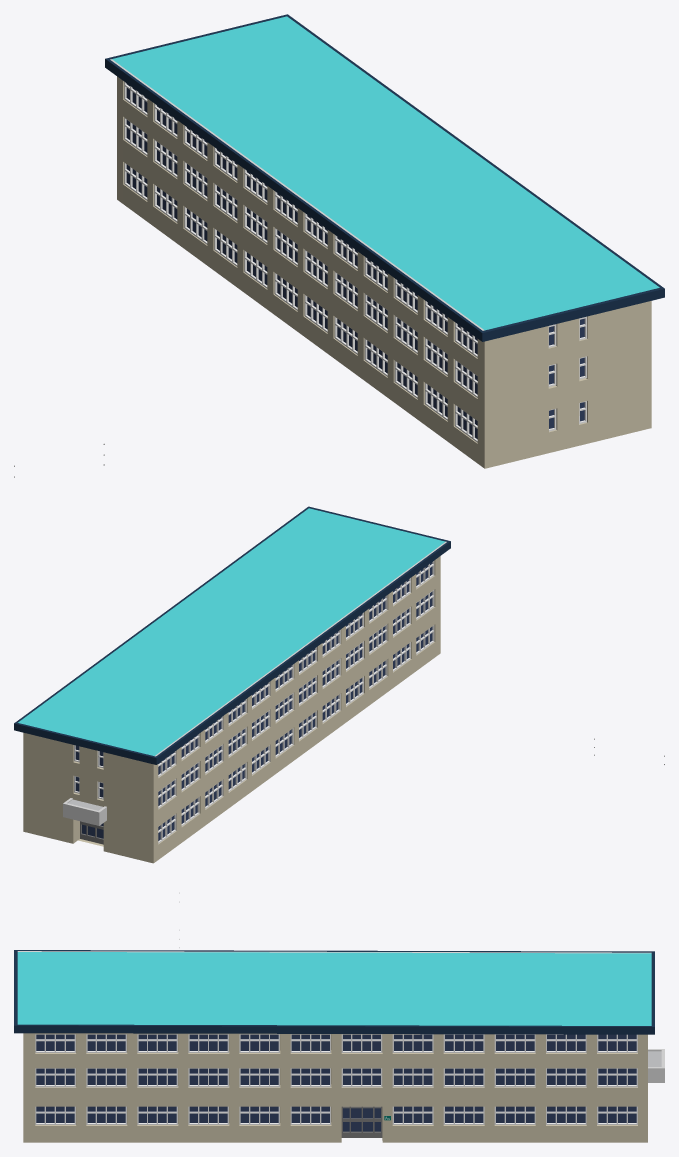
Rendered from Building_A.fbx.
The picture shows the model from 3 angles, top to bottom: view 1: azimuth 30°, elevation 25°; view 2: azimuth 150°, elevation 25°; view 3: azimuth 270°, elevation 25°; orthographic projection. The views are drawn at different scales.
Visible parts, largest first — view 1: Building_A; view 2: Building_A; view 3: Building_A.
Boxes of the visible parts, x1,y1,x2,y2 form: Building_A: [14, 14, 664, 477]; Building_A: [14, 506, 664, 863]; Building_A: [14, 892, 664, 1142].
Size of the model in its own units: 44.08 by 10.77 by 52.82.
